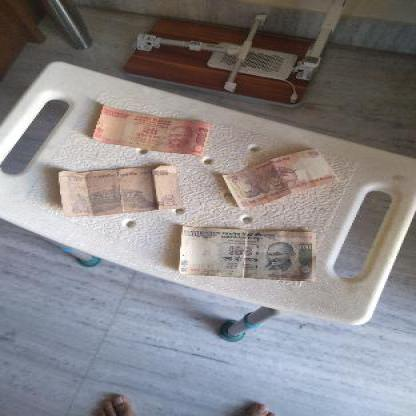Old100Front: (183, 229, 317, 281)
Old10Back: (221, 146, 340, 206)
Old20Front: (96, 104, 217, 153)
Old50Back: (58, 168, 186, 213)
